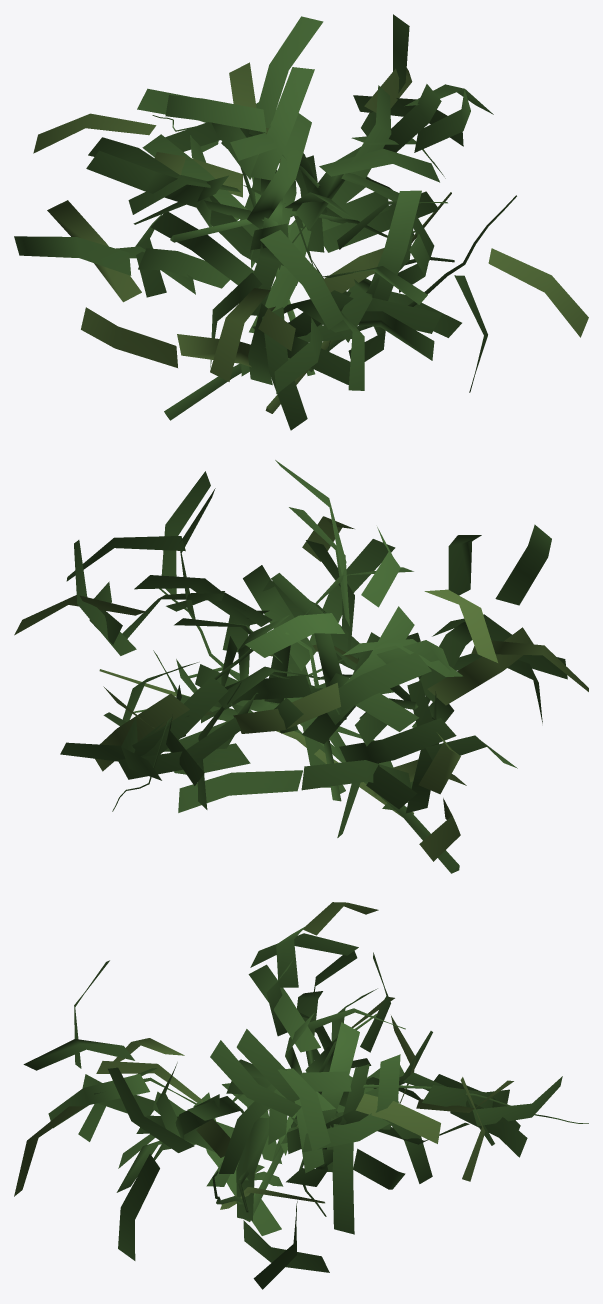
File: arbusto_3_longe.glb
The picture shows the model from 3 angles, top to bottom: view 1: azimuth 30°, elevation 25°; view 2: azimuth 150°, elevation 25°; view 3: azimuth 270°, elevation 25°; orthographic projection. The views are drawn at different scales.
Parts seen in each view (by area): view 1: arbusto_3_longe; view 2: arbusto_3_longe; view 3: arbusto_3_longe.
Boxes of the visible parts, bbox=[...] form: arbusto_3_longe: bbox=[14, 14, 588, 430]; arbusto_3_longe: bbox=[14, 460, 588, 873]; arbusto_3_longe: bbox=[14, 902, 588, 1289].
Bounding box in the file's own units: 0.8268 × 0.6248 × 0.9943.
